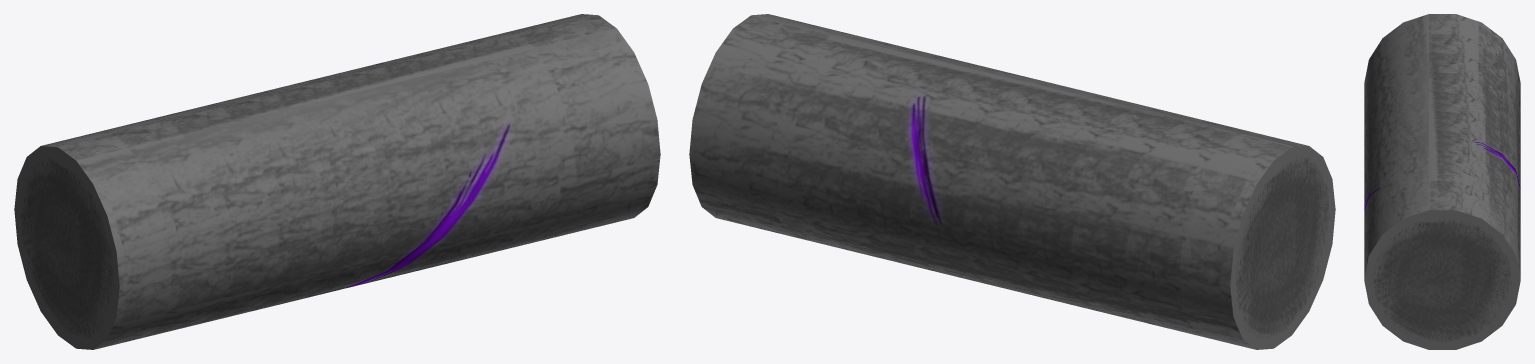
The model's file is Log.fbx.
The picture shows the model from 3 angles, left to right: view 1: azimuth 30°, elevation 25°; view 2: azimuth 150°, elevation 25°; view 3: azimuth 270°, elevation 25°; orthographic projection. The views are drawn at different scales.
Parts seen in each view (by area): view 1: Cylinder001; view 2: Cylinder001; view 3: Cylinder001.
Part boxes in pixels (x1=…): Cylinder001: x1=14, y1=14, x2=660, y2=349; Cylinder001: x1=689, y1=14, x2=1335, y2=349; Cylinder001: x1=1364, y1=14, x2=1520, y2=349.
Size of the model in its own units: 93.83 by 31.19 by 31.67.
1 material, 1 textured.
